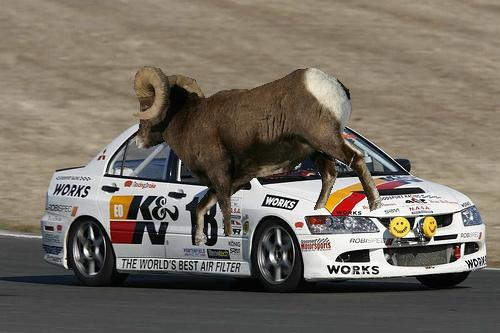tampered: (133, 67, 381, 246)
